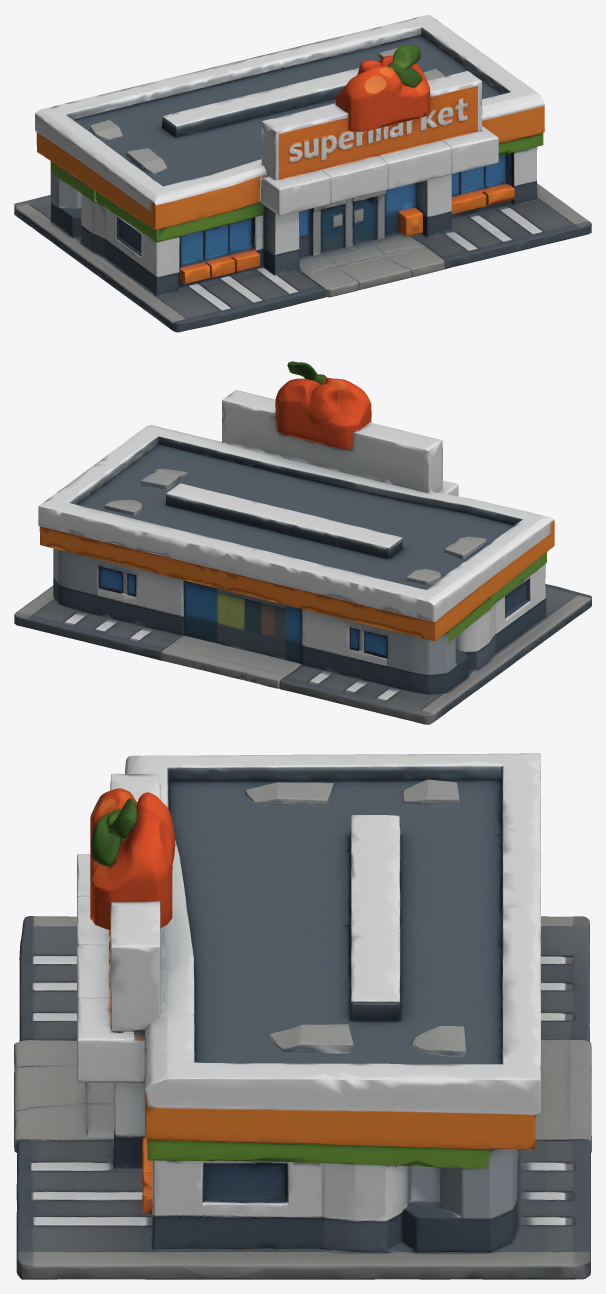
File: supermarket.glb
3 views of the same model, one above another, from view 1: azimuth 30°, elevation 25°; view 2: azimuth 150°, elevation 25°; view 3: azimuth 270°, elevation 25° (orthographic). The views are drawn at different scales.
Parts seen in each view (by area): view 1: tripo_node_f4f2b648-fd42-4de1-bc9d-c9a42c082bc3; view 2: tripo_node_f4f2b648-fd42-4de1-bc9d-c9a42c082bc3; view 3: tripo_node_f4f2b648-fd42-4de1-bc9d-c9a42c082bc3.
Part boxes in pixels (<box>): tripo_node_f4f2b648-fd42-4de1-bc9d-c9a42c082bc3: <box>14,14,591,332</box>; tripo_node_f4f2b648-fd42-4de1-bc9d-c9a42c082bc3: <box>14,361,591,724</box>; tripo_node_f4f2b648-fd42-4de1-bc9d-c9a42c082bc3: <box>14,753,591,1279</box>.
Size of the model in its own units: 1 by 0.4623 by 0.6968.
Materials: 1 (1 with a texture image).
